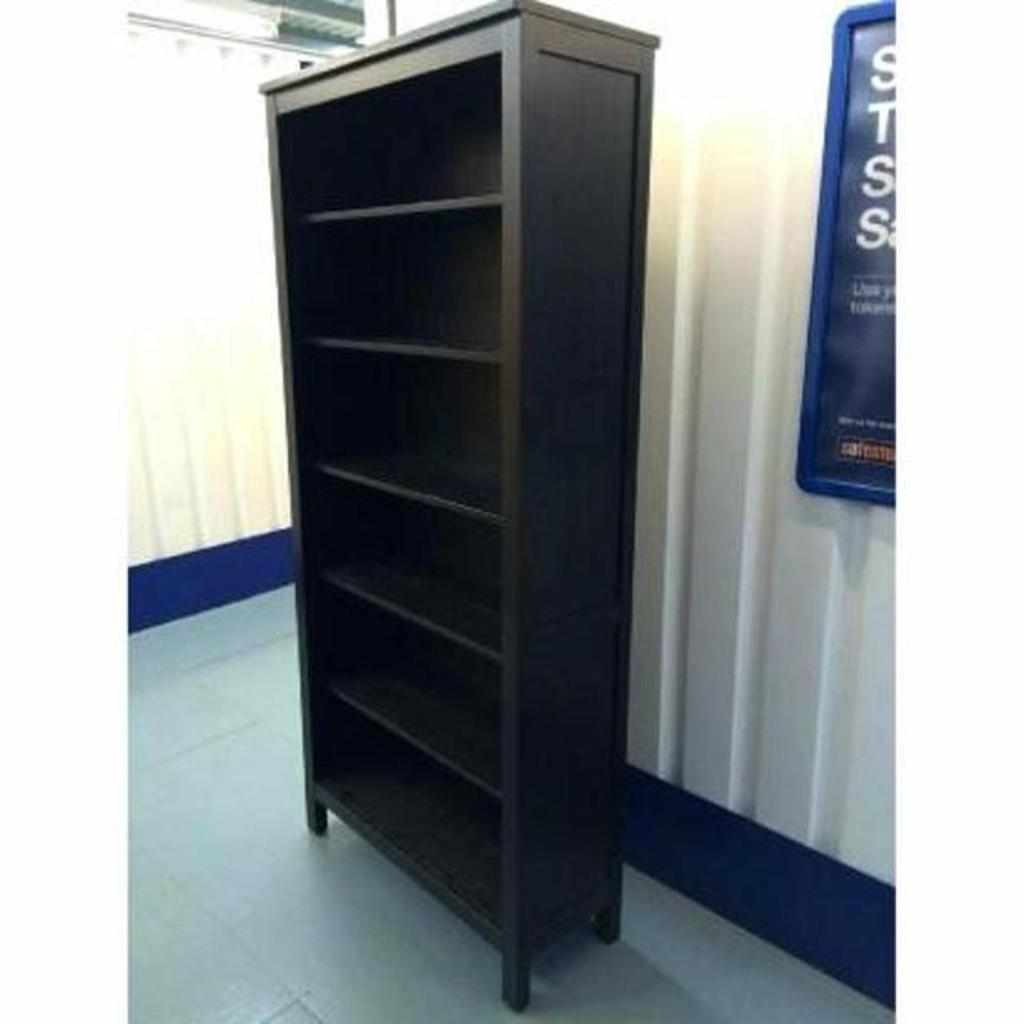lamp: (252, 1, 664, 1018)
